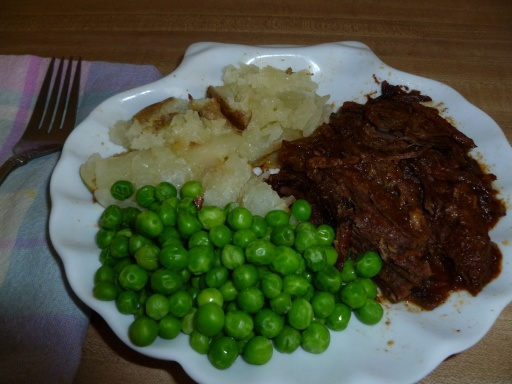background: (62, 36, 406, 221)
